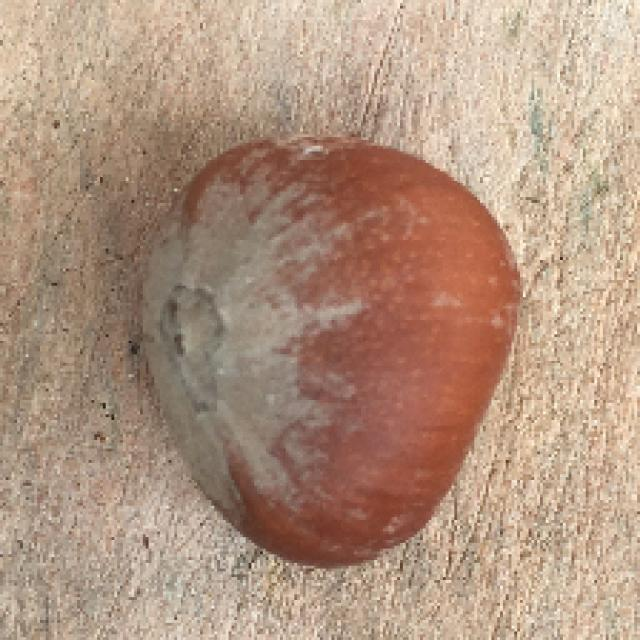qualityHazelnut: (142, 135, 526, 572)
